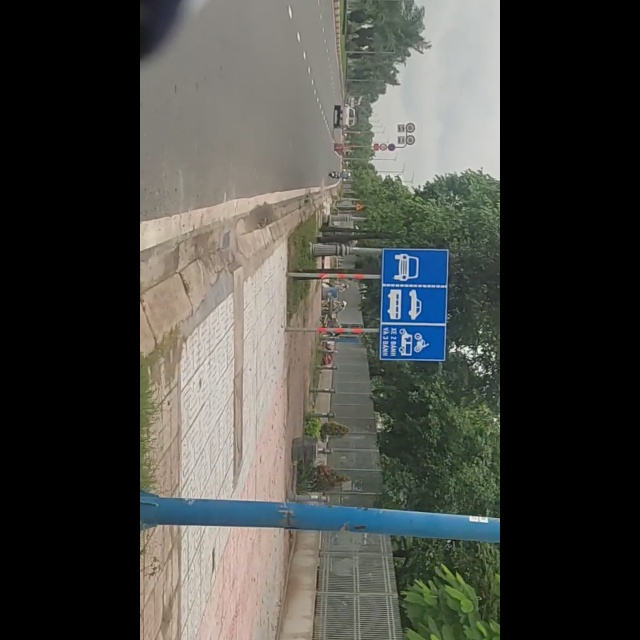bien_chi_dan: (421, 246, 551, 363)
